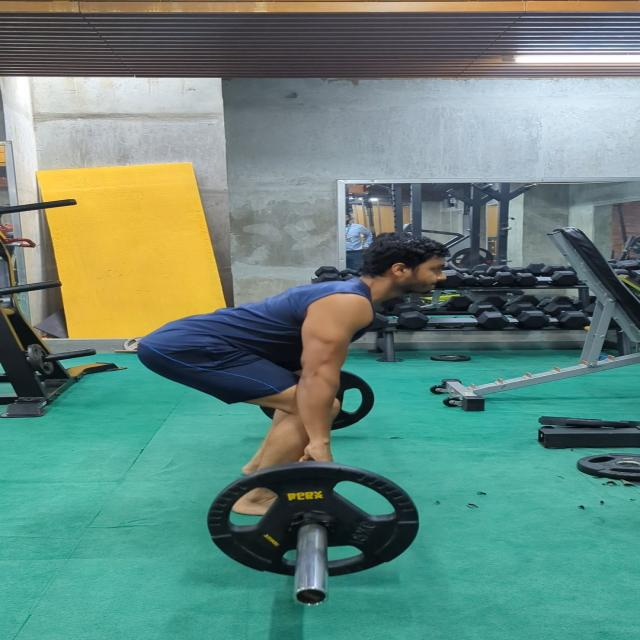Normal_Deadlifts: (136, 231, 449, 517)
